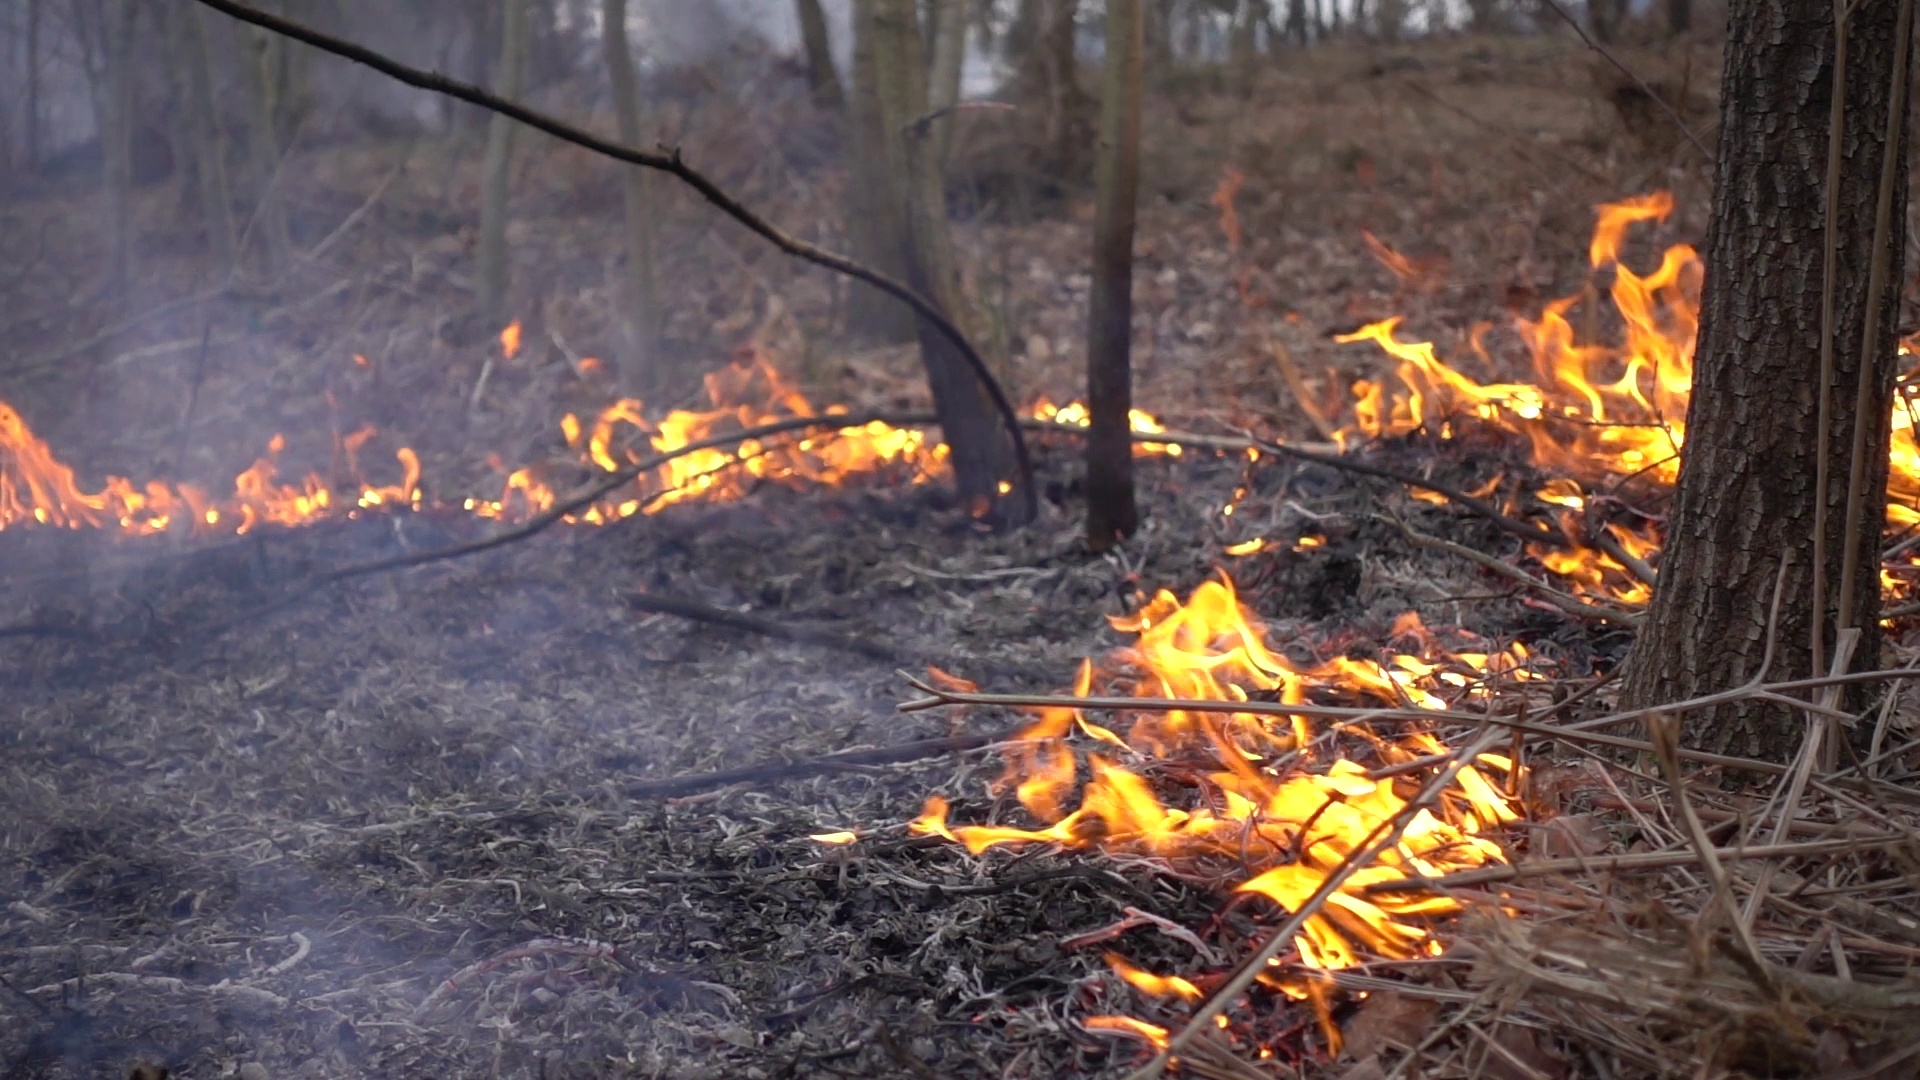fire: (924, 585, 1524, 957), (1342, 200, 1712, 600), (556, 369, 922, 514), (1, 434, 164, 524), (237, 446, 328, 531), (1884, 375, 1920, 530)
